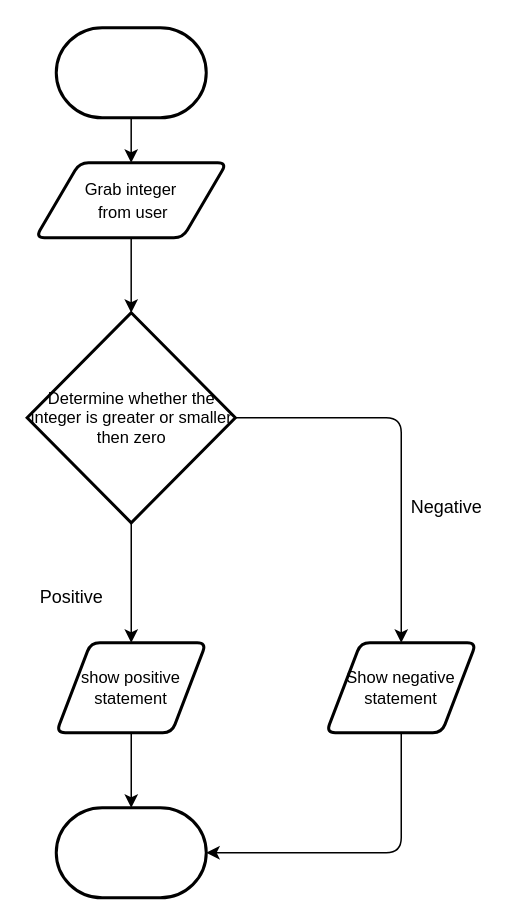
This 518x924 diagram has some shape labels left out. The centre of each missing label's shape, as x and y in pixels:
Start: point 130,72
Stop: point 130,852
